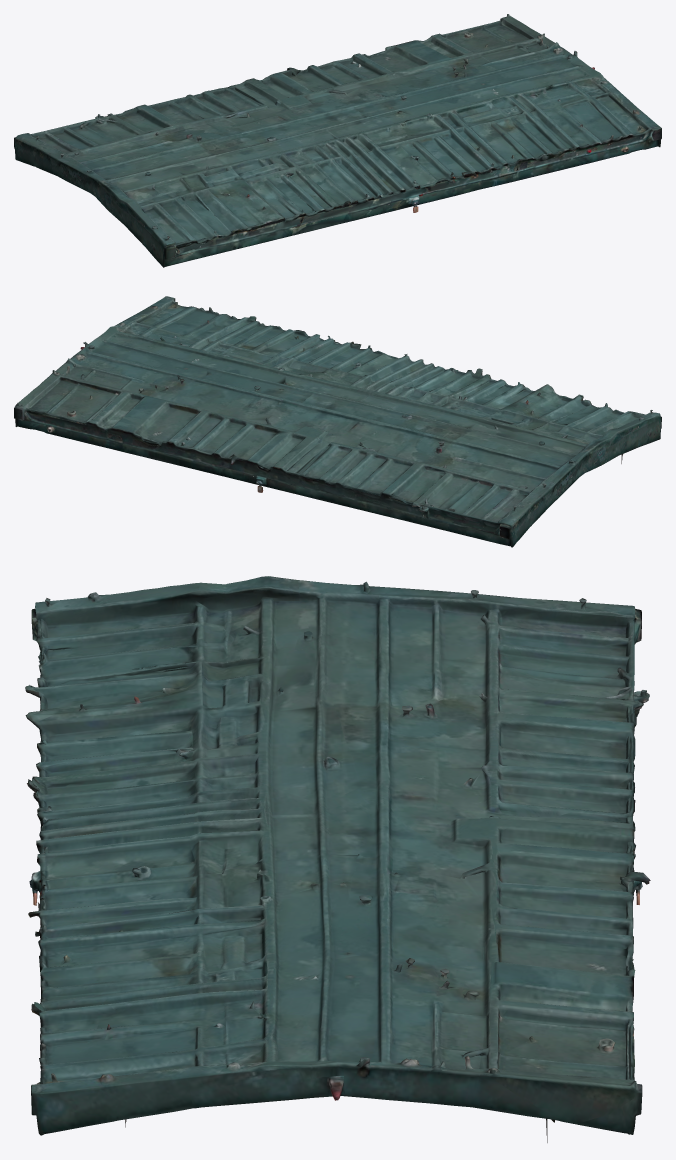
File: canopy.glb
3 renders of one model, top to bottom at view 1: azimuth 30°, elevation 25°; view 2: azimuth 150°, elevation 25°; view 3: azimuth 270°, elevation 25°, orthographic. The views are drawn at different scales.
Parts seen in each view (by area): view 1: roof; view 2: roof; view 3: roof.
Part boxes in pixels (box(x1,y1,x2,y2)): roof: box(14, 14, 661, 267); roof: box(14, 296, 661, 547); roof: box(25, 576, 650, 1142).
Size of the model in its own units: 0.9791 by 0.1133 by 0.5243.
Materials: 1 (1 with a texture image).
